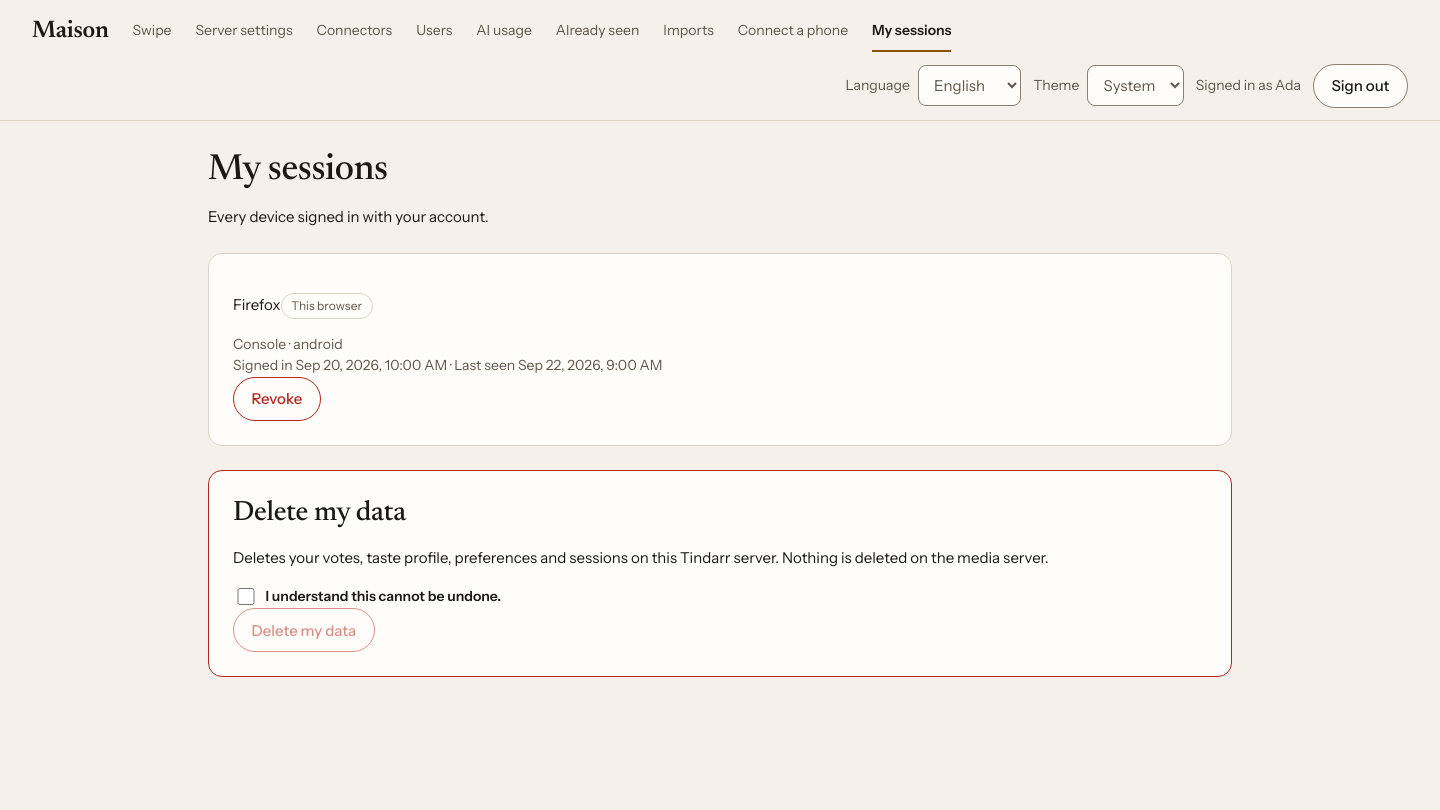
Test: my sessions › warns that revoking the current session signs the user out
Step 1. Click the button "Revoke" → click(277, 399), box [233,377,321,421]
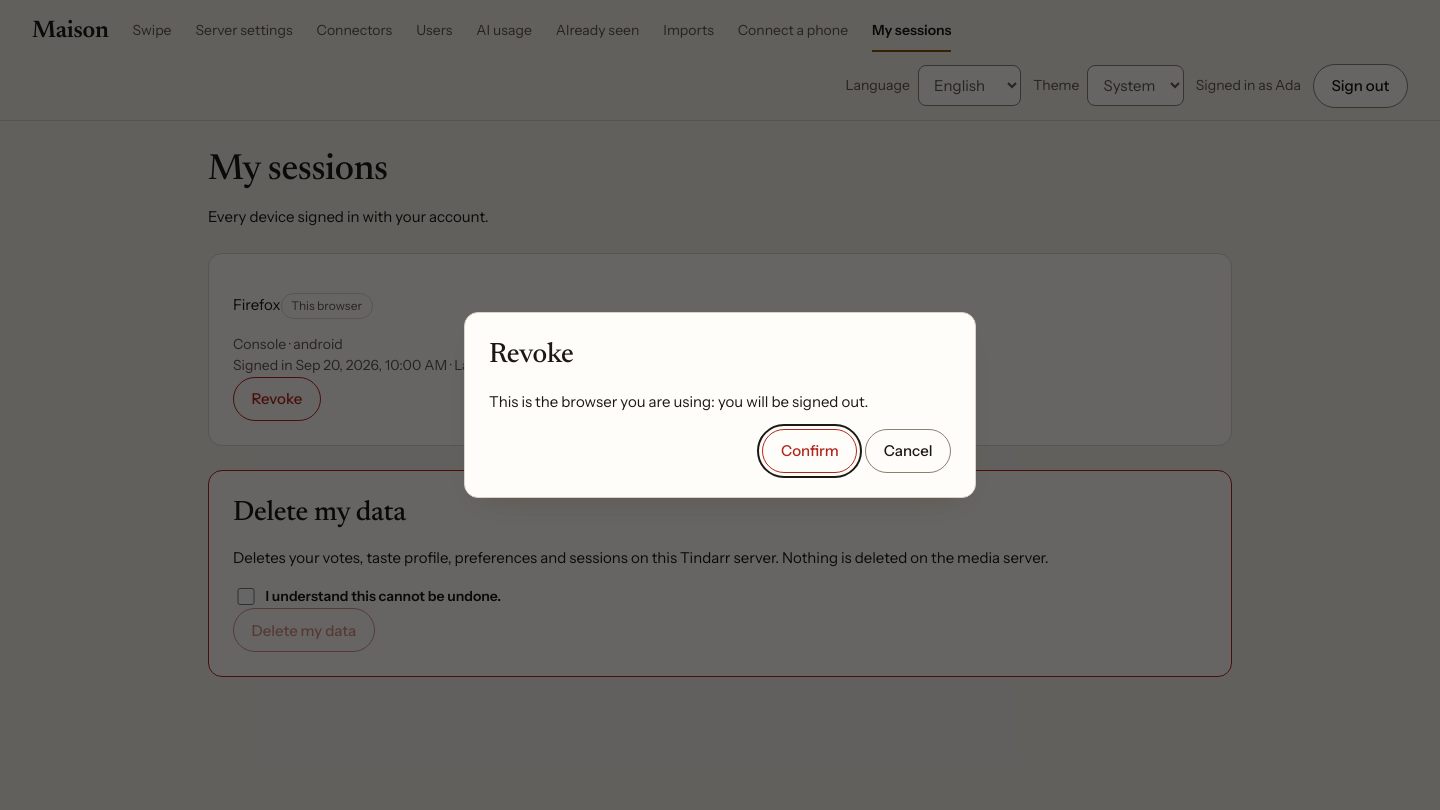
Check: the text "This is the browser you are using: you will be signed out." is shown, box [489,392,868,411]
